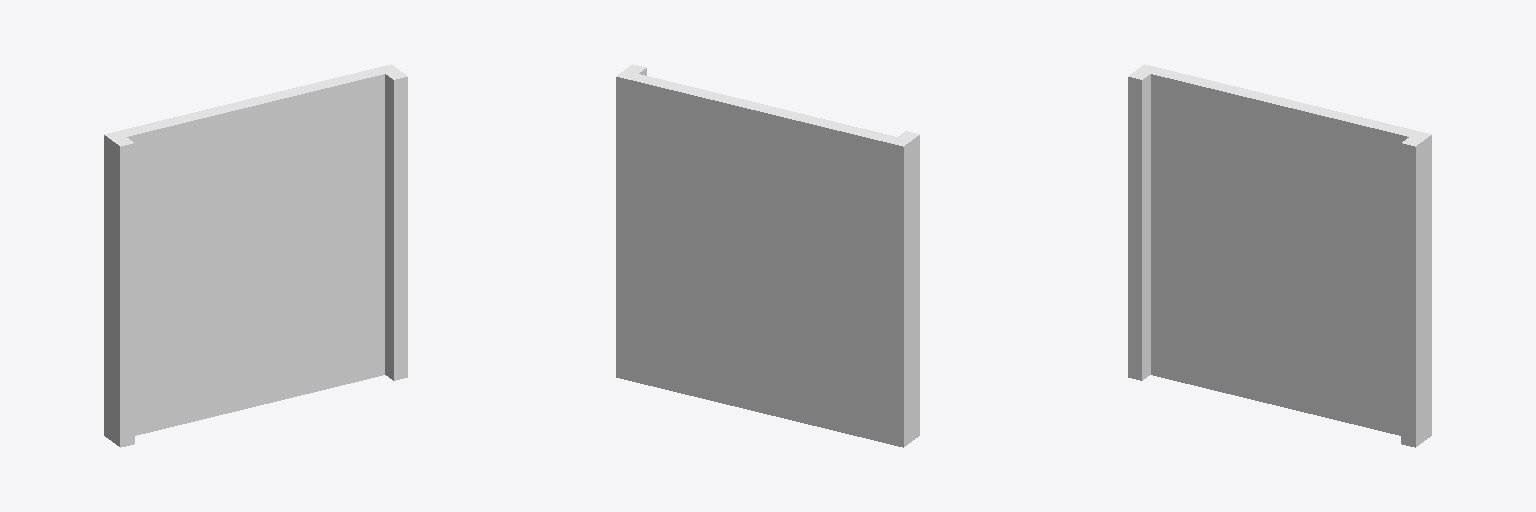
File: house-2-foundation_flat.obj
The picture shows the model from 3 angles: view 1: azimuth 30°, elevation 25°; view 2: azimuth 150°, elevation 25°; view 3: azimuth 330°, elevation 25°; orthographic projection.
Visible parts, largest first — view 1: foundation_flat; view 2: foundation_flat; view 3: foundation_flat.
Part boxes in pixels (left/top/right/bottom): foundation_flat: left=104, top=64, right=407, bottom=447; foundation_flat: left=616, top=64, right=919, bottom=447; foundation_flat: left=1128, top=64, right=1431, bottom=447.
Bounding box in the file's own units: 2 × 2 × 0.2.